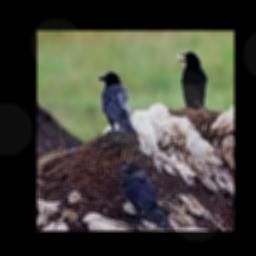Crow: (121, 161, 169, 230), (97, 71, 134, 133), (178, 52, 207, 109)
